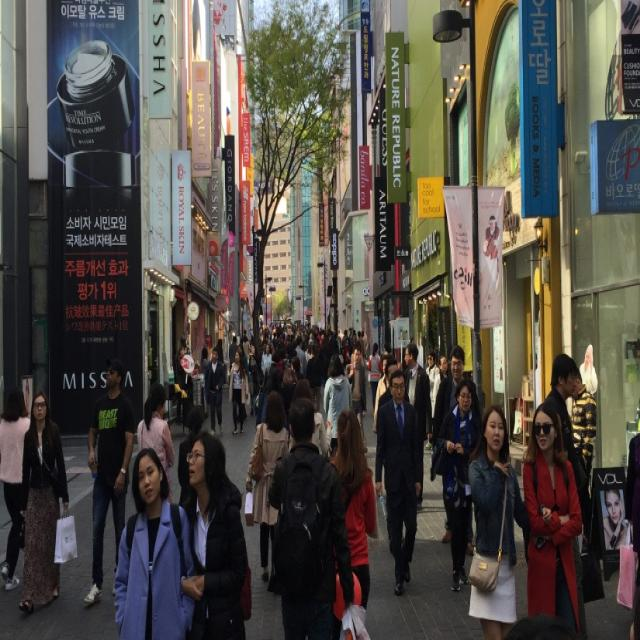body: (265, 394, 357, 639), (112, 445, 196, 639), (179, 429, 252, 640), (468, 404, 530, 640), (522, 400, 583, 639), (80, 350, 136, 605), (541, 350, 589, 640), (17, 387, 71, 616), (326, 408, 379, 639), (372, 367, 424, 598), (430, 342, 480, 558), (242, 384, 292, 589), (434, 377, 481, 592), (0, 379, 32, 592), (402, 341, 433, 512), (135, 380, 174, 504), (286, 377, 334, 458), (249, 311, 365, 344), (622, 433, 640, 640), (322, 351, 354, 458), (177, 403, 205, 506), (344, 344, 368, 447), (602, 470, 627, 560), (203, 345, 227, 437), (376, 356, 411, 416), (260, 366, 291, 431), (227, 345, 249, 436), (482, 210, 502, 296), (574, 337, 600, 403), (372, 352, 392, 436), (257, 352, 278, 426), (304, 341, 324, 414), (424, 350, 438, 453), (279, 366, 299, 436), (431, 354, 451, 422), (366, 340, 382, 418), (172, 344, 188, 419), (247, 344, 262, 416), (294, 334, 308, 378), (228, 334, 240, 376), (260, 342, 274, 376), (289, 355, 305, 382), (239, 328, 249, 358), (215, 337, 225, 364), (279, 343, 291, 365), (324, 342, 344, 352), (380, 339, 391, 356)
